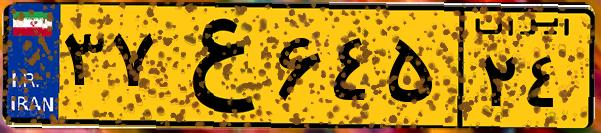2: (475, 38, 525, 113)
3: (57, 26, 110, 100)
4: (330, 28, 385, 110), (525, 38, 570, 115)
5: (385, 28, 445, 110)
6: (270, 28, 330, 110)
7: (110, 28, 158, 98)
ع: (158, 12, 270, 120)
